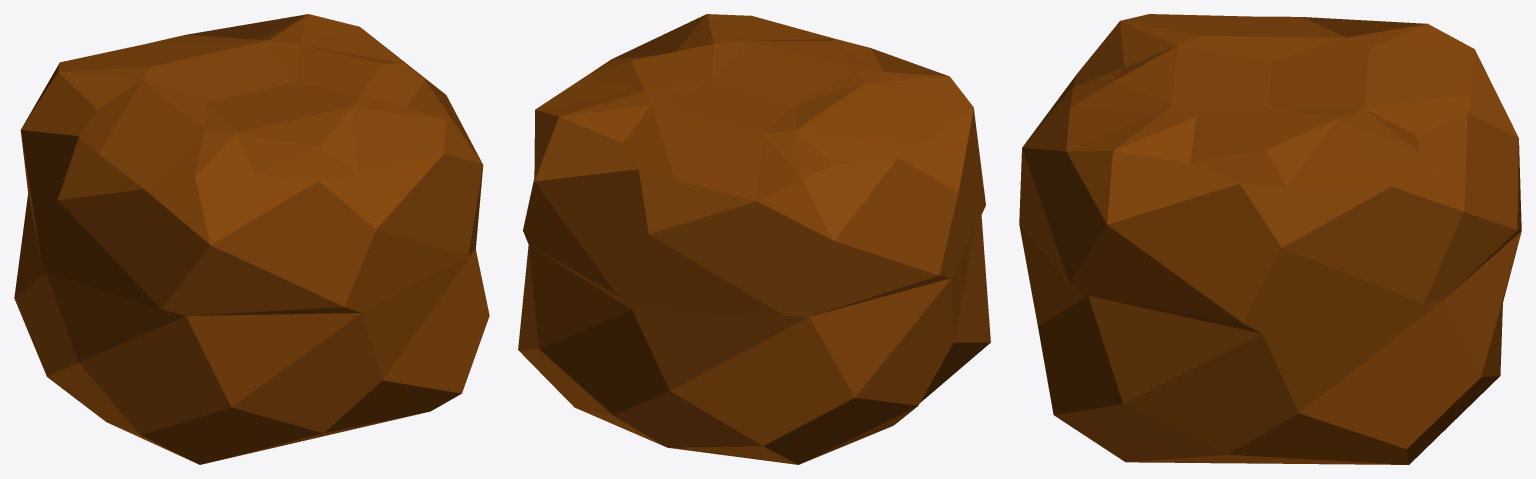
File: Roca 6.fbx
The picture shows the model from 3 angles, left to right: view 1: azimuth 30°, elevation 25°; view 2: azimuth 150°, elevation 25°; view 3: azimuth 270°, elevation 25°; orthographic projection. The views are drawn at different scales.
Parts seen in each view (by area): view 1: ROCA 6; view 2: ROCA 6; view 3: ROCA 6.
Boxes of the visible parts, x1,y1,x2,y2 form: ROCA 6: (14,14,489,464); ROCA 6: (518,14,990,464); ROCA 6: (1019,14,1521,464).
Bounding box in the file's own units: 285 × 204 × 285.
